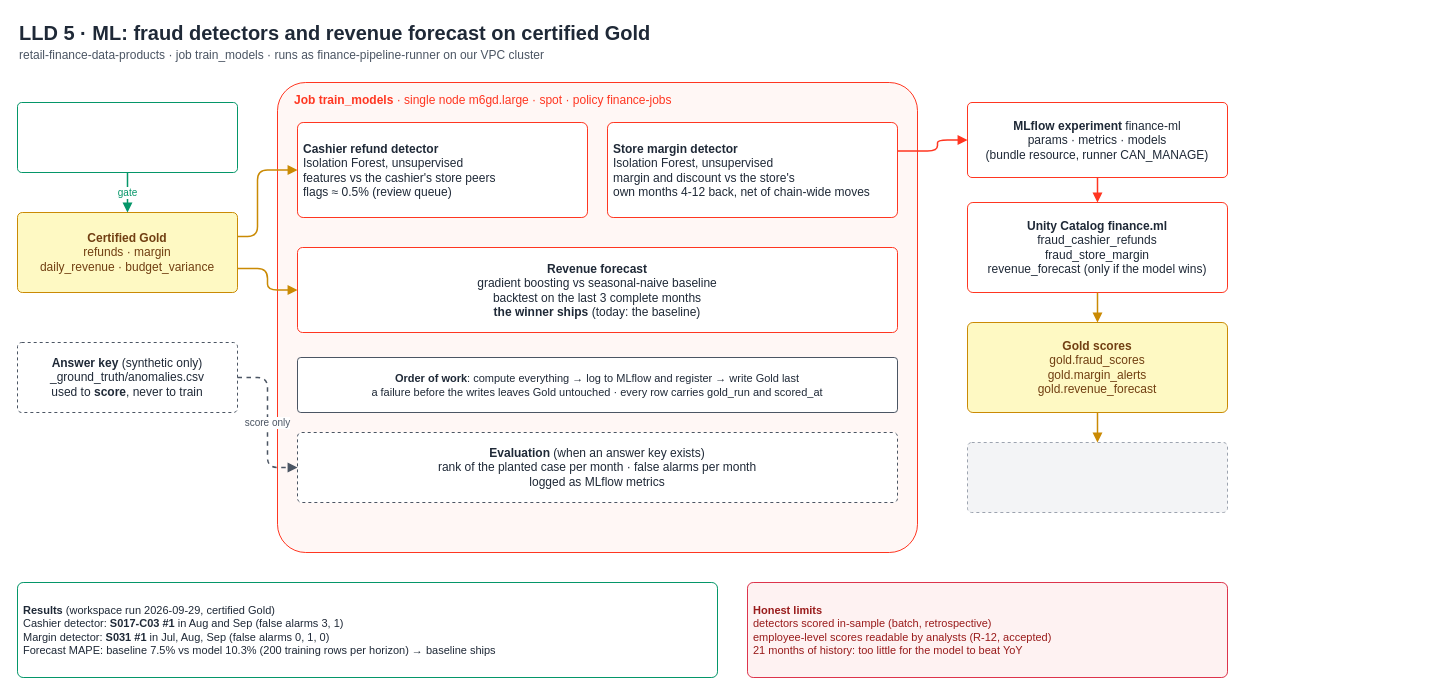
The diagram is 1435 pixels wide and 695 high, and some of its shapes have lost their labels. The centre of each missing label's shape, as x and y in pixels:
Consumers finance analysts (read Gold) AI agent (stage 7, planned): the point at 1097,477
ops.gold_certification latest run must be certified else: job refuses: the point at 127,137
